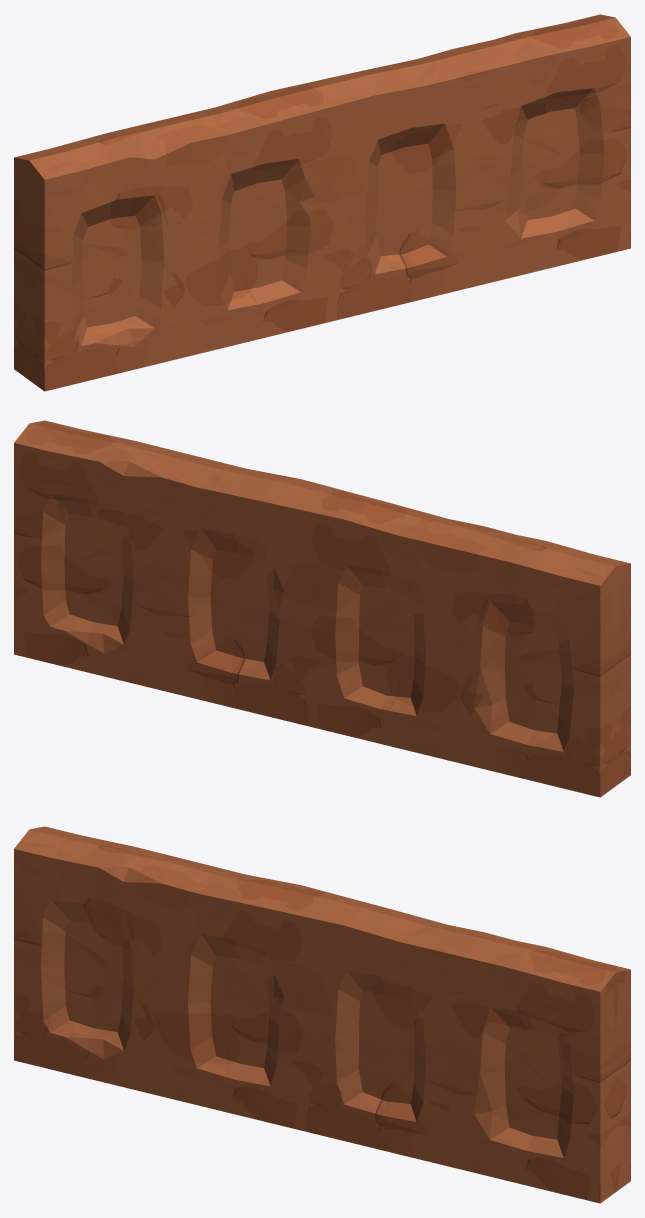
File: SM_Bld_Wall_Balcony_Ground_02.fbx
3 renders of one model, top to bottom at view 1: azimuth 30°, elevation 25°; view 2: azimuth 150°, elevation 25°; view 3: azimuth 330°, elevation 25°, orthographic.
Parts seen in each view (by area): view 1: SM_Bld_Wall_Balcony_Ground_02; view 2: SM_Bld_Wall_Balcony_Ground_02; view 3: SM_Bld_Wall_Balcony_Ground_02.
Boxes of the visible parts, left/top/right/bottom form: SM_Bld_Wall_Balcony_Ground_02: left=14, top=14, right=630, bottom=391; SM_Bld_Wall_Balcony_Ground_02: left=14, top=420, right=630, bottom=797; SM_Bld_Wall_Balcony_Ground_02: left=14, top=826, right=630, bottom=1203.
Size of the model in its own units: 250 by 90.66 by 22.63.
